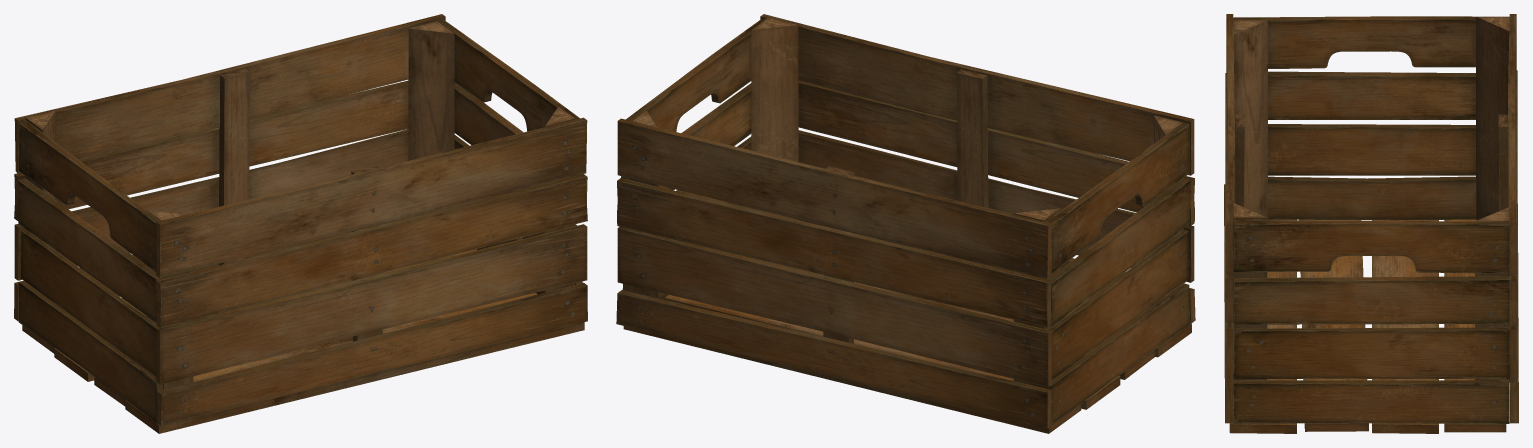
3 views of the same model, side by side, from view 1: azimuth 30°, elevation 25°; view 2: azimuth 150°, elevation 25°; view 3: azimuth 270°, elevation 25° (orthographic).
Visible parts, largest first — view 1: 01_Material #17_0, 008_Material #17_0, Object004_Material #17_0, 07_Material #17_0, 05_Material #17_0, Object009_Material #17_0; view 2: 008_Material #17_0, 01_Material #17_0, Object004_Material #17_0, 07_Material #17_0, 05_Material #17_0, Object008_Material #17_0; view 3: Object004_Material #17_0, 07_Material #17_0, 05_Material #17_0, 008_Material #17_0, 01_Material #17_0, Object009_Material #17_0, Object008_Material #17_0.
Boxes of the visible parts, x1,y1,x2,y2 form: 01_Material #17_0: (156,117,587,425); 008_Material #17_0: (14,14,445,321); Object004_Material #17_0: (18,19,582,423); 07_Material #17_0: (25,21,575,389); 05_Material #17_0: (22,249,584,433); Object009_Material #17_0: (219,68,250,265); 008_Material #17_0: (616,118,1051,428); 01_Material #17_0: (760,14,1195,323); Object004_Material #17_0: (621,19,1190,426); 07_Material #17_0: (629,17,1183,387); 05_Material #17_0: (623,267,1191,433); Object008_Material #17_0: (957,69,988,207); Object004_Material #17_0: (1233,16,1509,423); 07_Material #17_0: (1233,16,1509,410); 05_Material #17_0: (1229,219,1506,433); 008_Material #17_0: (1508,14,1518,423); 01_Material #17_0: (1224,14,1234,423); Object009_Material #17_0: (1498,114,1508,210); Object008_Material #17_0: (1233,114,1244,322).
Bounding box in the file's own units: 19.74 × 9.33 × 11.76.
1 material, 1 textured.
